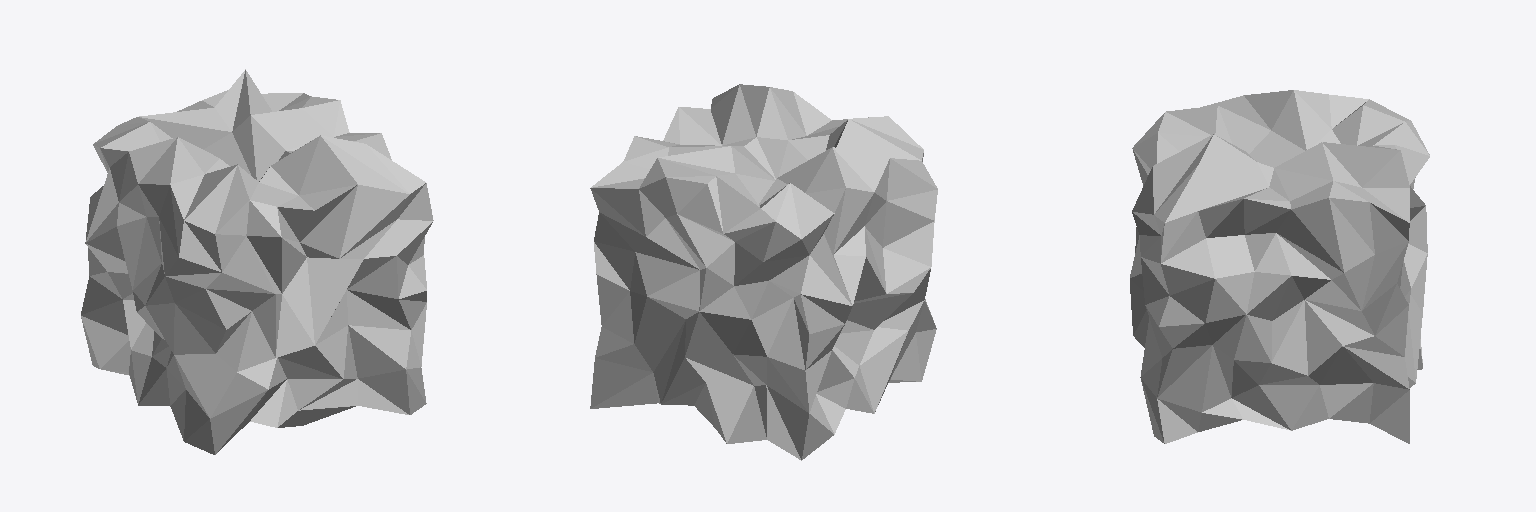
Rendered from RockBlock3.obj.
The picture shows the model from 3 angles: view 1: azimuth 30°, elevation 25°; view 2: azimuth 150°, elevation 25°; view 3: azimuth 270°, elevation 25°; orthographic projection.
Visible parts, largest first — view 1: Cube.001; view 2: Cube.001; view 3: Cube.001.
Boxes of the visible parts, x1=… form: Cube.001: x1=81, y1=69, x2=433, y2=454; Cube.001: x1=590, y1=84, x2=937, y2=460; Cube.001: x1=1130, y1=90, x2=1429, y2=443.
Size of the model in its own units: 2.59 by 2.48 by 2.47.